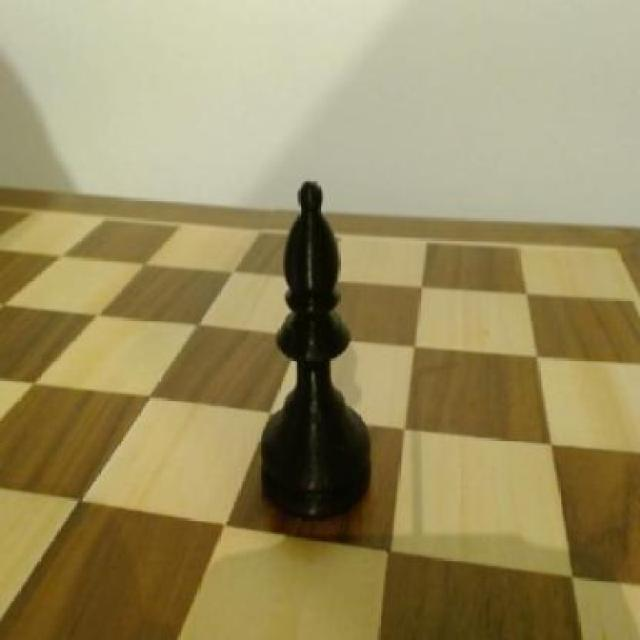bishop: (246, 179, 379, 533)
